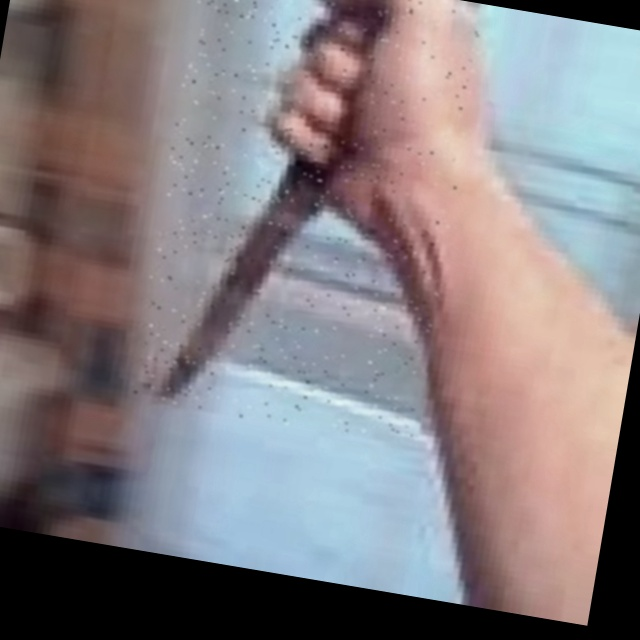Sharp-Object: (130, 0, 487, 446)
